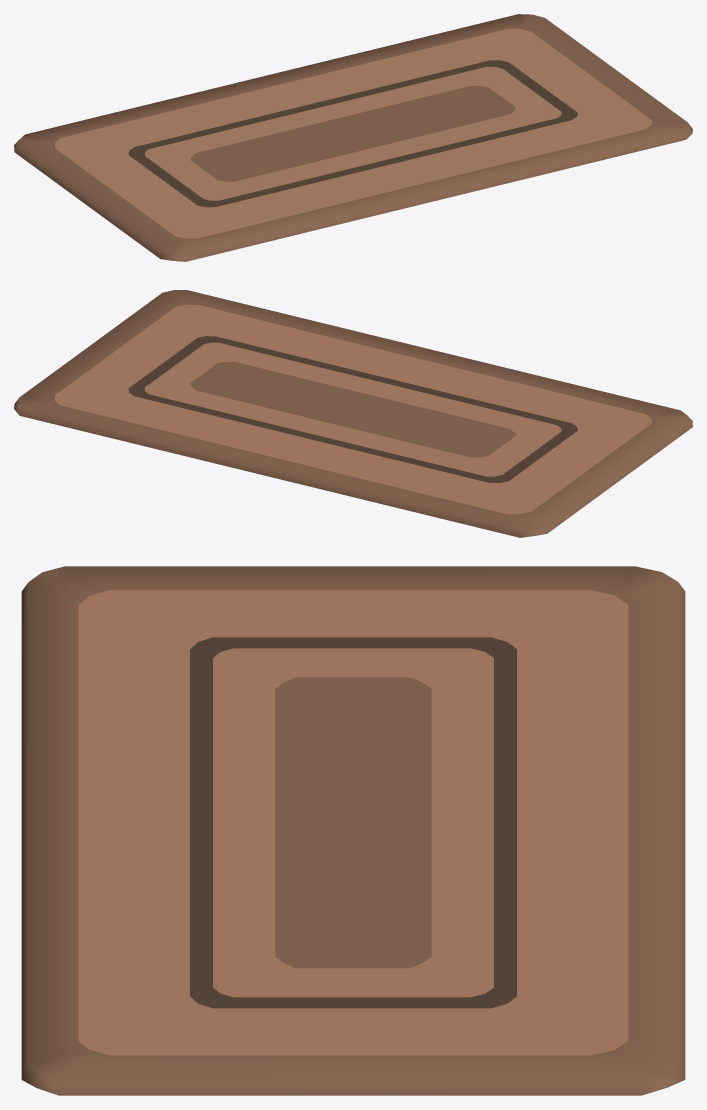
Rendered from SM_Prop_Rug_03.obj.
The picture shows the model from 3 angles, top to bottom: view 1: azimuth 30°, elevation 25°; view 2: azimuth 150°, elevation 25°; view 3: azimuth 270°, elevation 25°; orthographic projection. The views are drawn at different scales.
Parts seen in each view (by area): view 1: SM_Prop_Rug_03_Mat_SwatchOverlay_PolygonTown_01_Inst; view 2: SM_Prop_Rug_03_Mat_SwatchOverlay_PolygonTown_01_Inst; view 3: SM_Prop_Rug_03_Mat_SwatchOverlay_PolygonTown_01_Inst.
Boxes of the visible parts, bbox=[...] form: SM_Prop_Rug_03_Mat_SwatchOverlay_PolygonTown_01_Inst: bbox=[14, 14, 692, 261]; SM_Prop_Rug_03_Mat_SwatchOverlay_PolygonTown_01_Inst: bbox=[14, 290, 692, 537]; SM_Prop_Rug_03_Mat_SwatchOverlay_PolygonTown_01_Inst: bbox=[21, 566, 685, 1095].
Bounding box in the file's own units: 2.72 × 0.0314 × 1.47.
1 material, 1 textured.
